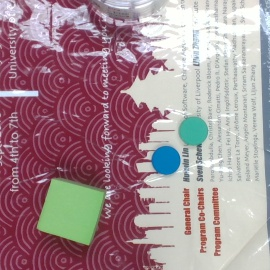blue: (150, 144, 182, 175)
green: (179, 116, 209, 146)
